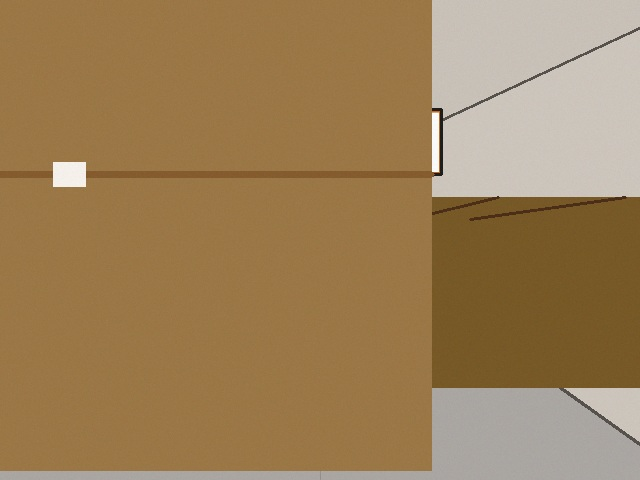box: (0, 0, 431, 470)
charging_station: (126, 152, 207, 287)
directional_sign: (310, 109, 441, 174)
pallet: (245, 197, 639, 387)
